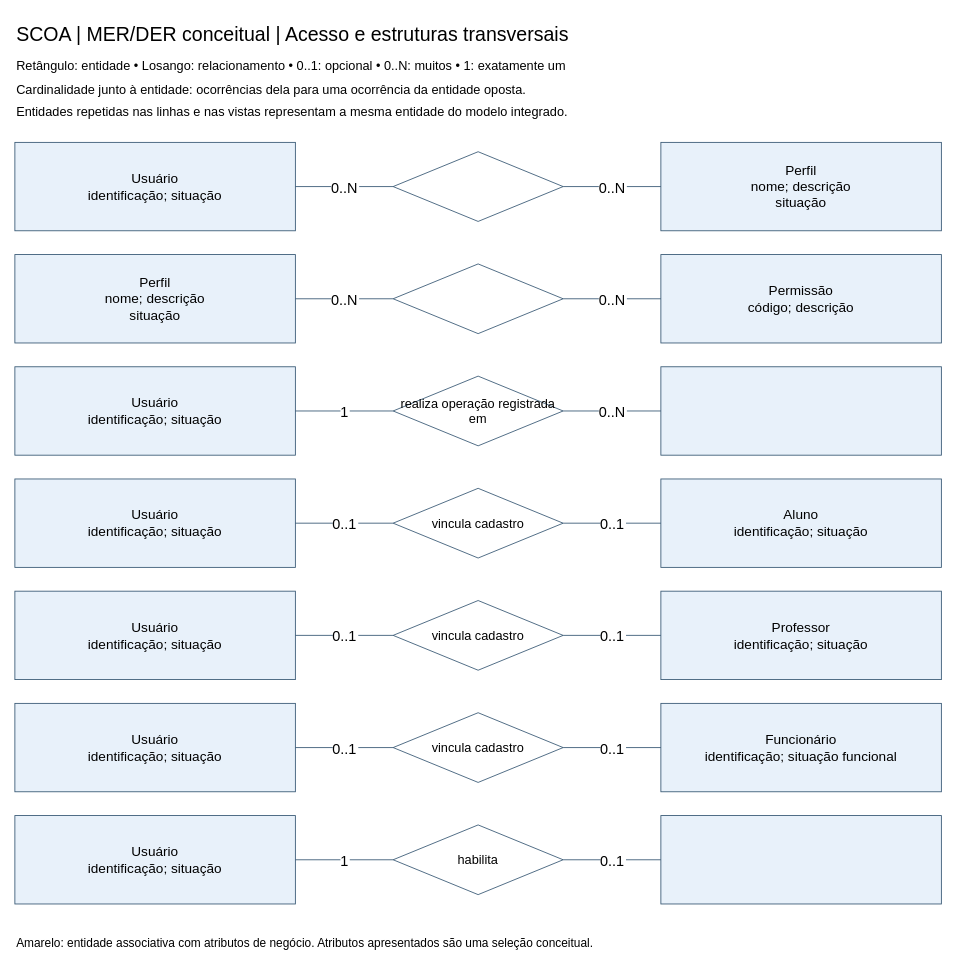
Image size: 956x967. Some labels were removed from this diagram. The shapes that lost their labels are listed below. From the top down, each one's box as (x1, y1, x2, y2) in pixels, then its label:
(392, 151, 563, 221): possui perfil
(392, 263, 563, 334): concede
(660, 366, 941, 455): Auditoria módulo; entidade ação; data/hora detalhes
(660, 815, 941, 904): Usuário da biblioteca tipo; situação
